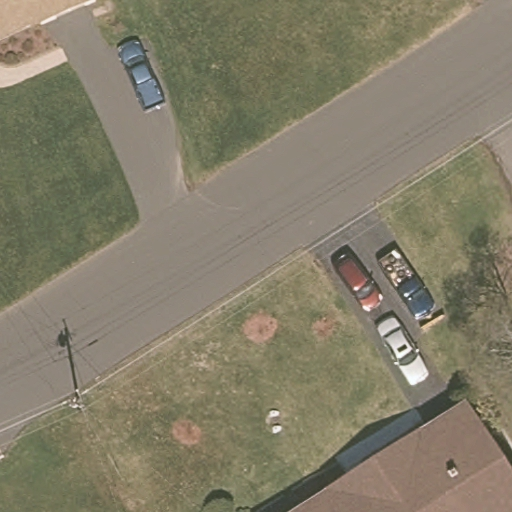DT: (67, 388, 88, 413)
